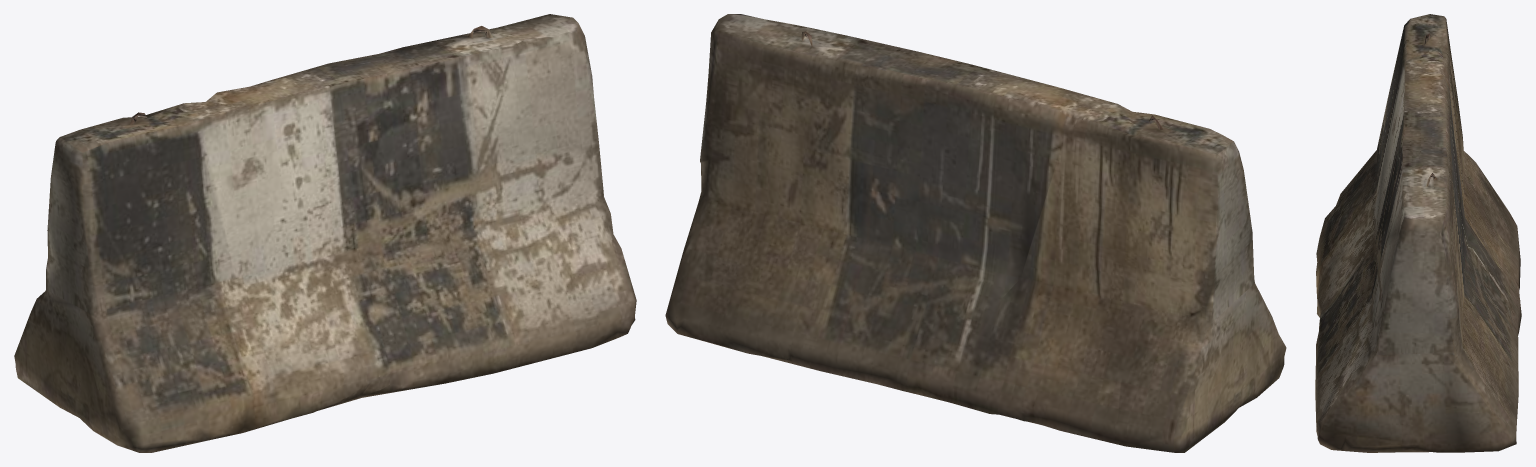
Rendered from concrete_road_barrier.glb.
3 views of the same model, side by side, from view 1: azimuth 30°, elevation 25°; view 2: azimuth 150°, elevation 25°; view 3: azimuth 270°, elevation 25° (orthographic). The views are drawn at different scales.
Parts seen in each view (by area): view 1: concrete_road_barrier; view 2: concrete_road_barrier; view 3: concrete_road_barrier.
Boxes of the visible parts, <box> form: concrete_road_barrier: <box>14,14,636,452</box>; concrete_road_barrier: <box>665,14,1286,452</box>; concrete_road_barrier: <box>1315,14,1521,452</box>.
Bounding box in the file's own units: 1.54 × 0.8297 × 0.6342.
1 material, 1 textured.
